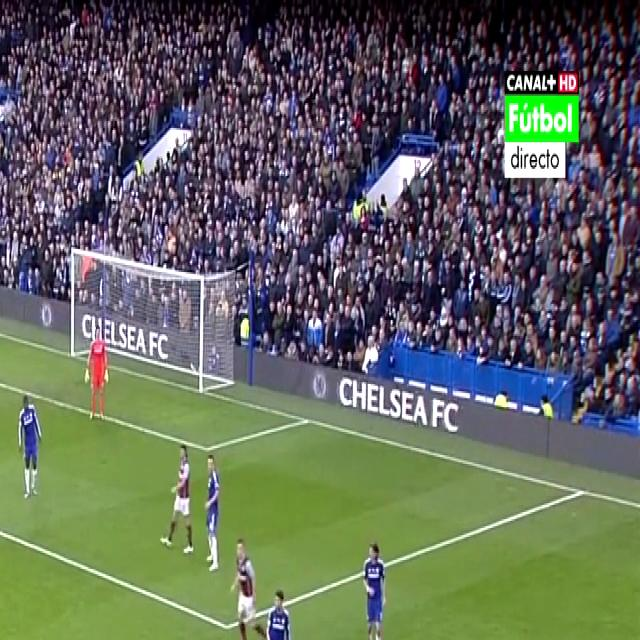goalkeeper: (83, 322, 112, 432)
soccer-player: (353, 524, 396, 640), (12, 382, 50, 508), (161, 433, 195, 566), (194, 441, 225, 574), (227, 530, 259, 640), (253, 574, 297, 640)
